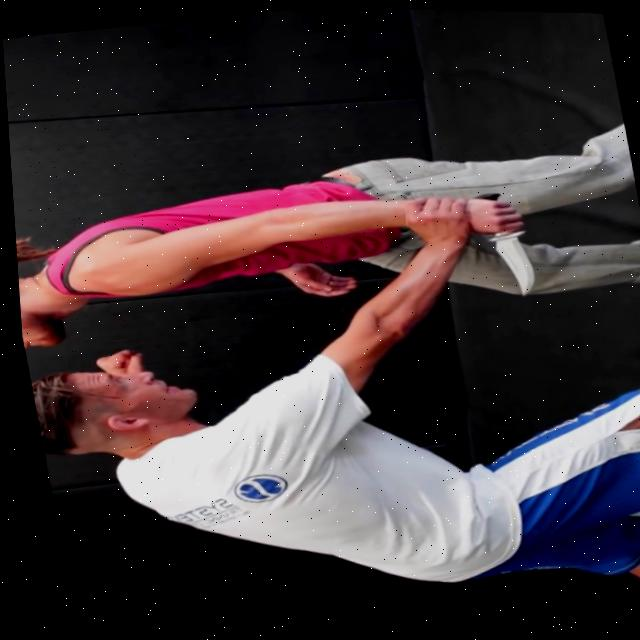knife: (472, 224, 542, 298)
